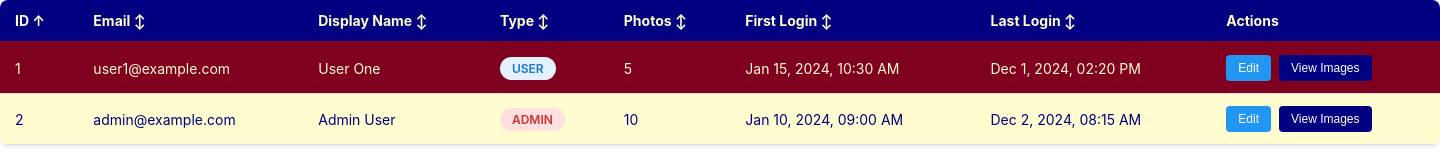
it: UserTable Component › exits edit mode after Save clicked
Click the button "Edit" in the row of "user1@example.com".
click(1249, 68)  # box [1226,55,1271,81]
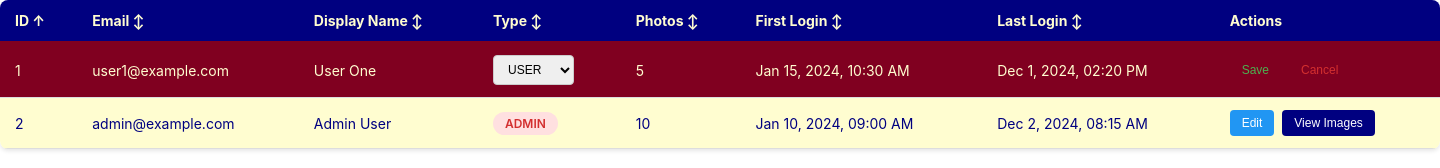
Click the button "Save".
click(1255, 70)  # box [1230,57,1281,83]
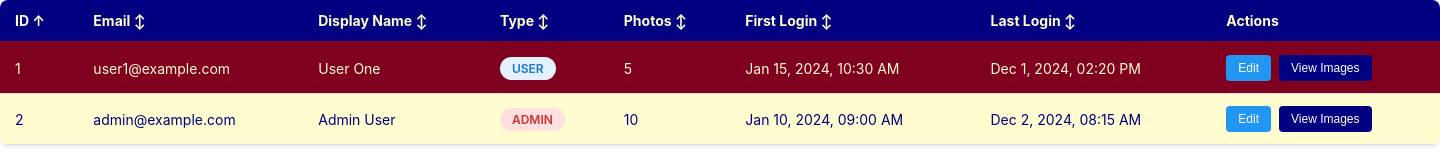
Check: the number of buttons "Edit" is 2, box [1226,55,1271,81]; [1226,106,1271,132]
Check: the button "Save" is gone
Check: the button "Cancel" is gone
